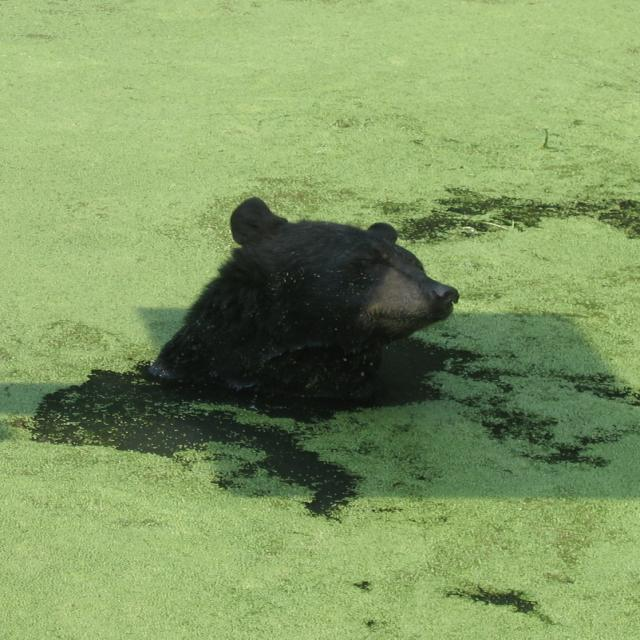Buffalo: (139, 196, 461, 408)
